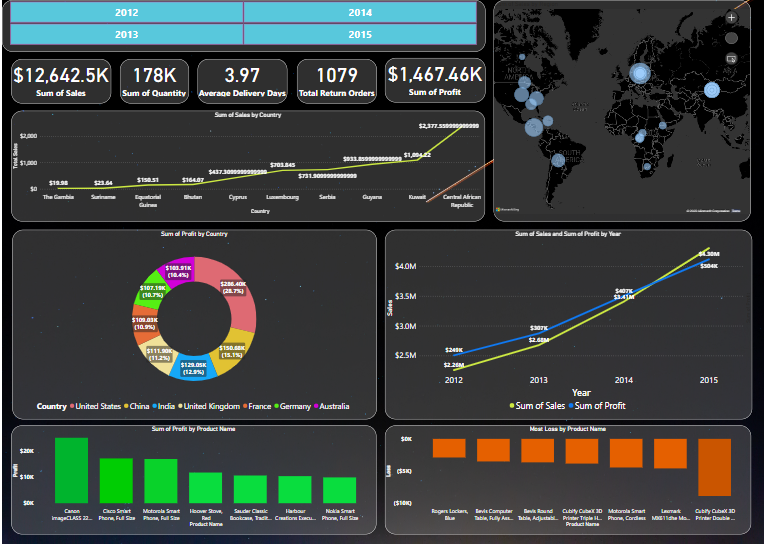

The page's visual inventory and layout, read from the dashboard file:
{"tool":"powerbi","page":{"name":"Page 1","canvas":[2100,1500],"ordinal":0},"visuals":[{"type":"card","fields":{"Values":["Sum(Orders.Quantity)"]},"box":[325,162.9,190,122.9],"z":0},{"type":"card","fields":{"Values":["Avg(Orders.Delivery Days)"]},"box":[540,162.9,247.1,122.9],"z":1000},{"type":"card","fields":{"Values":["Sum(Orders.Profit)"]},"box":[1055,160,277.5,122.5],"z":2000},{"type":"card","fields":{"Values":["Sum(Orders.Sales)"]},"box":[27,162.9,275.7,122.9],"z":3000},{"type":"slicer","fields":{"Values":["Orders.Year"]},"box":[0,0,1333.3,143.3],"z":4000},{"type":"card","fields":{"Values":["Sum(Returns.Return Orders)"]},"box":[812,163,220,122.5],"z":5000},{"type":"map","fields":{"Category":["Orders.Region"],"Size":["Sum(Orders.Sales)"]},"box":[1356.3,0,709.6,610.8],"z":6000},{"type":"columnChart","fields":{"Category":["Orders.Product Name"],"Y":["Sum(Orders.Profit)"]},"box":[26.7,1173.3,1006.7,300],"z":7000},{"type":"columnChart","title":"Most Loss by Product Name","fields":{"Y":["Sum(Orders.Profit)"],"Category":["Orders.Product Name"]},"box":[1056.7,1173.3,1010,300],"z":7001},{"type":"donutChart","fields":{"Category":["Orders.Country"],"Y":["Sum(Orders.Profit)"]},"box":[27.5,632.5,1005,522.5],"z":7002},{"type":"lineChart","fields":{"Y":["Sum(Orders.Sales)"],"Category":["Orders.Year"],"Y2":["Sum(Orders.Profit)"]},"box":[1055,632.5,1012.5,522.5],"z":7003},{"type":"lineChart","fields":{"Category":["Orders.Country"],"Y":["Sum(Orders.Sales)"]},"box":[26.7,305,1306.7,305],"z":7004}]}

Visuals, with their boxes in screenshot pixels (x1, y1, x2, y2), scaled from the page's 2100x1500 canvas onto the 764x544 screenshot:
card - Sum(Orders.Quantity): BBox(118, 59, 187, 104)
card - Avg(Orders.Delivery Days): BBox(196, 59, 286, 104)
card - Sum(Orders.Profit): BBox(384, 58, 485, 102)
card - Sum(Orders.Sales): BBox(10, 59, 110, 104)
slicer - Orders.Year: BBox(0, 0, 485, 52)
card - Sum(Returns.Return Orders): BBox(295, 59, 375, 104)
map - Orders.Region x Sum(Orders.Sales): BBox(493, 0, 752, 222)
columnChart - Orders.Product Name x Sum(Orders.Profit): BBox(10, 426, 376, 534)
"Most Loss by Product Name" columnChart: BBox(384, 426, 752, 534)
donutChart - Orders.Country x Sum(Orders.Profit): BBox(10, 229, 376, 419)
lineChart - Sum(Orders.Sales) x Orders.Year: BBox(384, 229, 752, 419)
lineChart - Orders.Country x Sum(Orders.Sales): BBox(10, 111, 485, 221)
